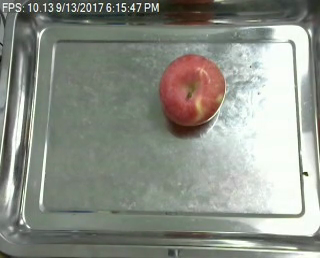Apple: (156, 52, 226, 128)
